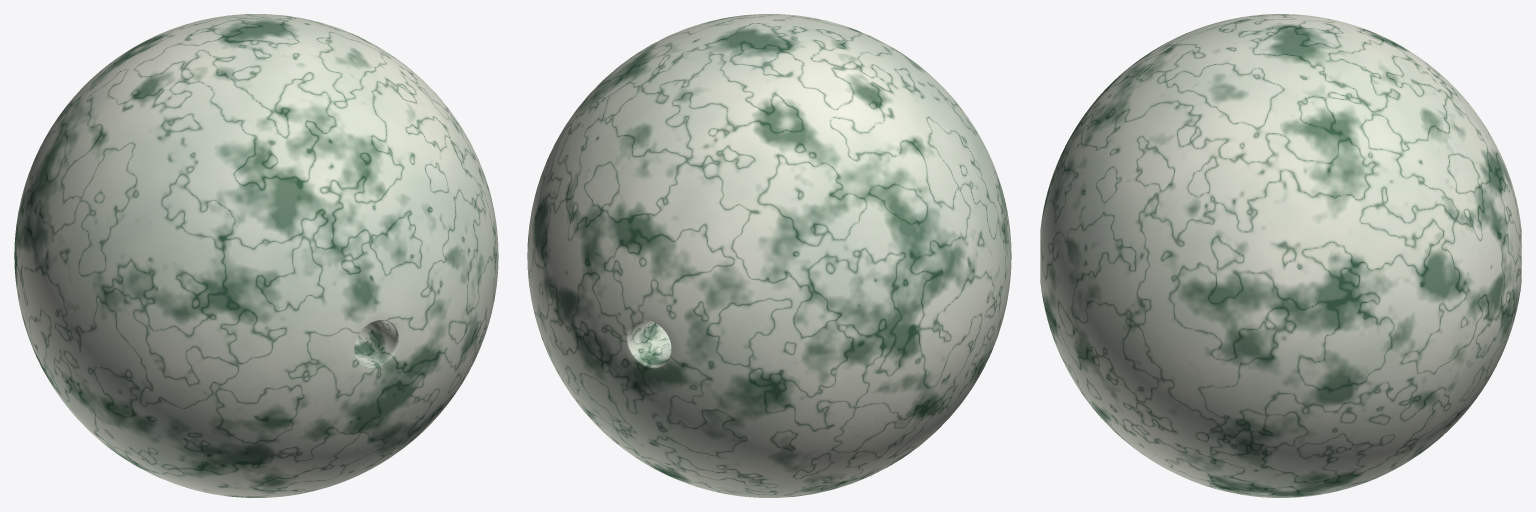
Rendered from tree-agate-10mm.glb.
The picture shows the model from 3 angles, left to right: view 1: azimuth 30°, elevation 25°; view 2: azimuth 150°, elevation 25°; view 3: azimuth 270°, elevation 25°; orthographic projection.
Parts seen in each view (by area): view 1: tree-agate.001; view 2: tree-agate.001; view 3: tree-agate.001.
Boxes of the visible parts, x1,y1,x2,y2 form: tree-agate.001: (14,14,498,497); tree-agate.001: (527,14,1011,497); tree-agate.001: (1040,14,1521,497).
Size of the model in its own units: 0.01 by 0.01 by 0.00994.
1 material, 1 textured.
